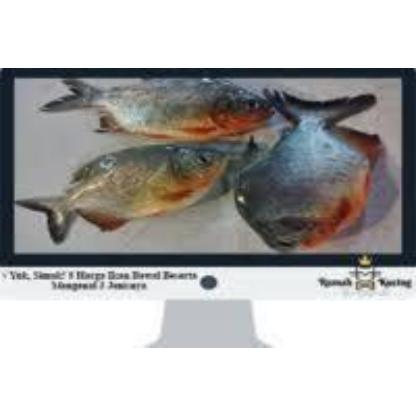ikan-pacu: (235, 90, 380, 248), (19, 142, 228, 244), (46, 75, 276, 139)
